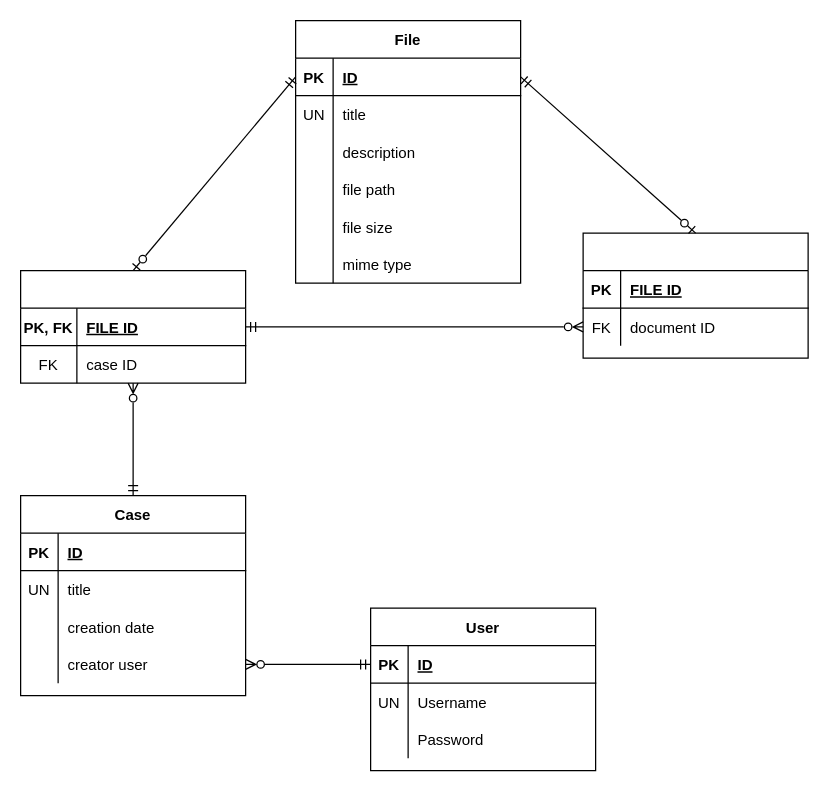
This 829x791 diagram has some shape labels left out. Here are the shapes that lost their labels. From the top down, the box of each, then its label:
(582, 232, 808, 358): Attachment
(19, 269, 246, 383): Document
